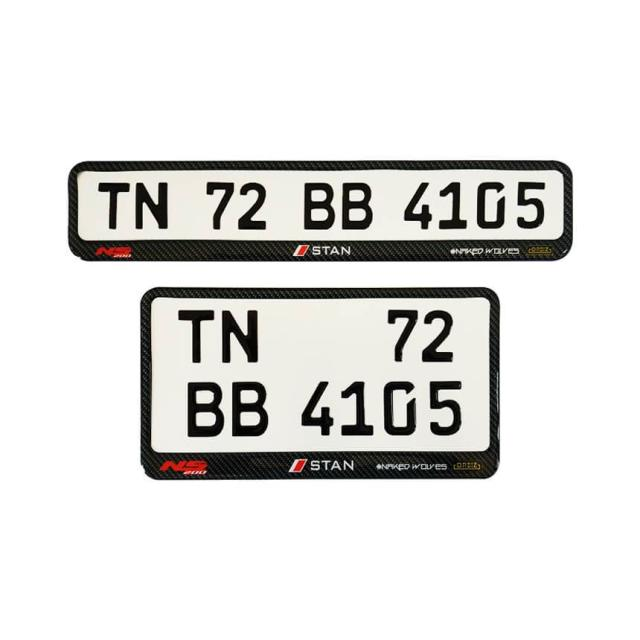plate: (147, 290, 495, 464), (75, 169, 570, 254)
